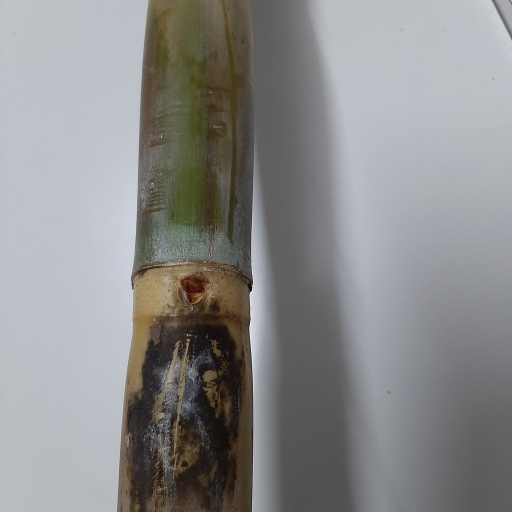Damage_Bud: (177, 272, 213, 305)
